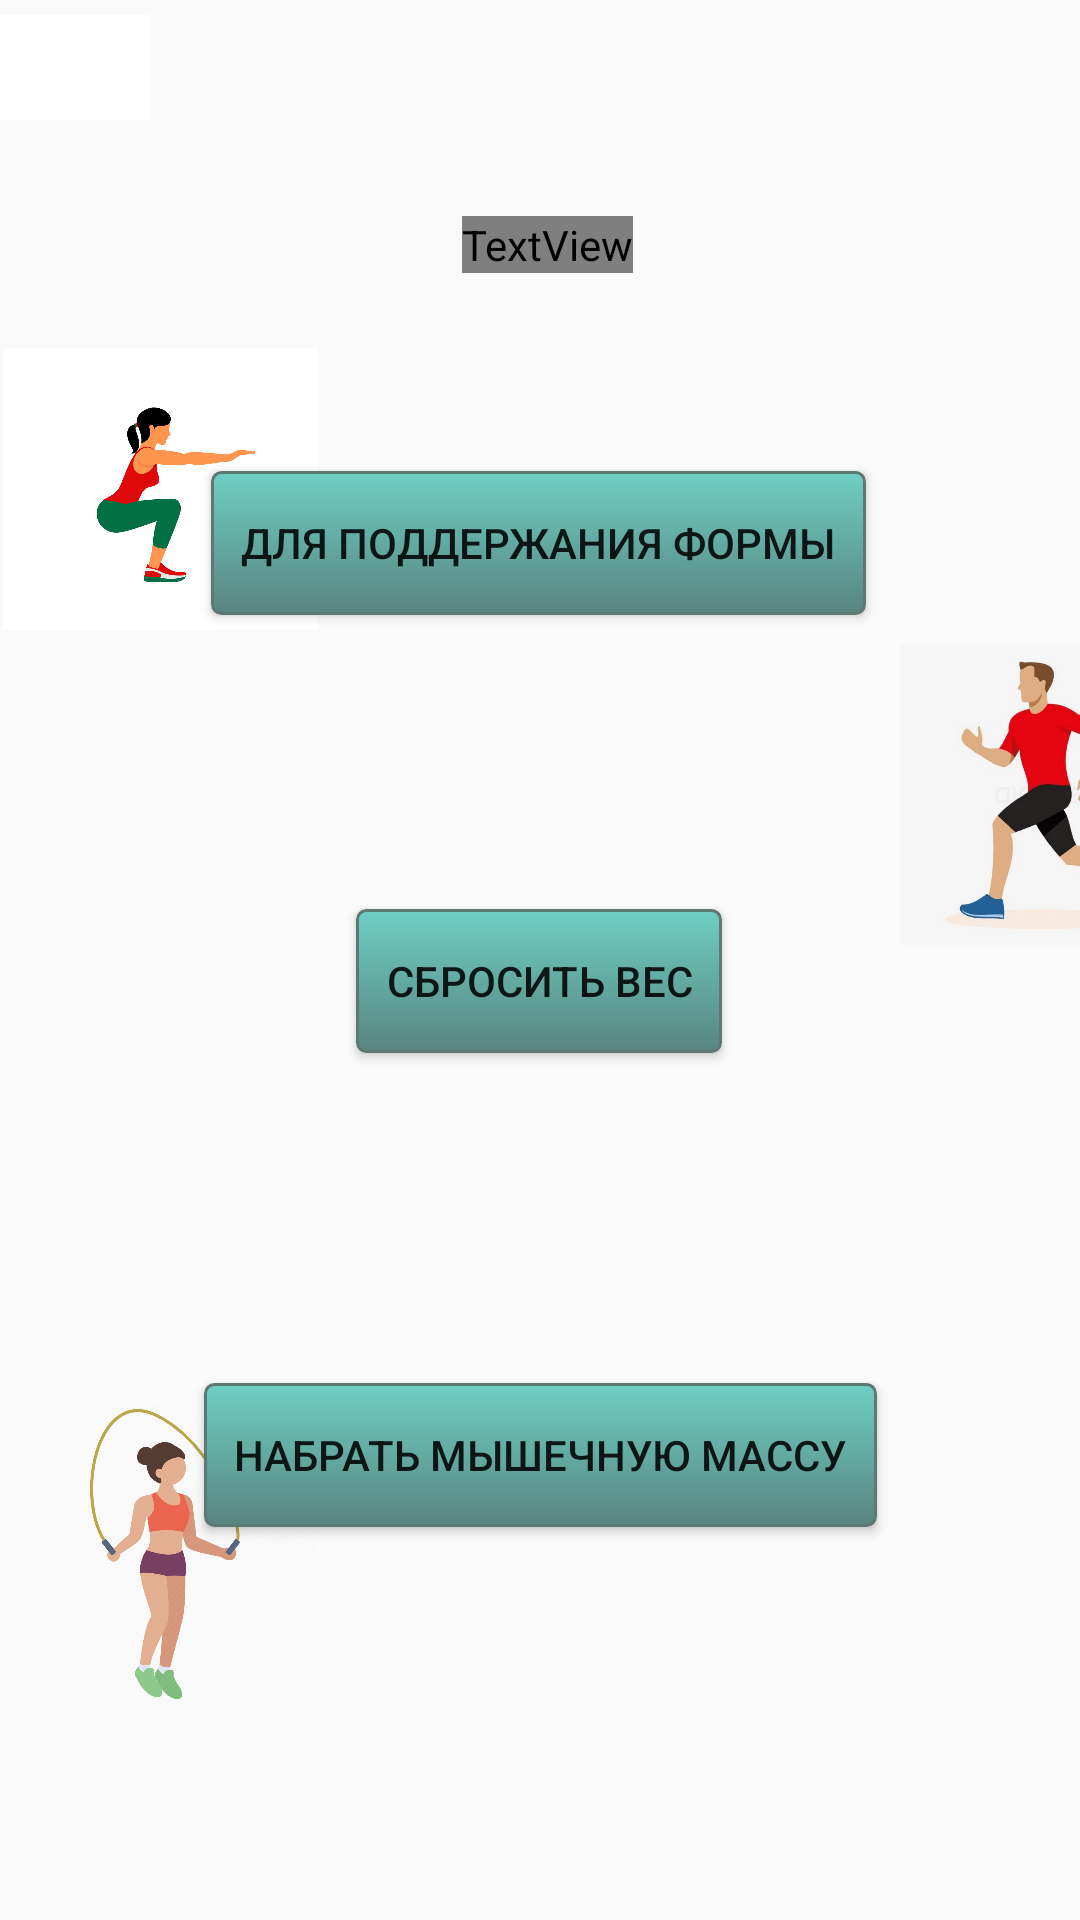

Named icons in this screenshot (1080 x 1920) and their bounding boxes, (x1=x1, y1=y1, x2=x2, y2=y2):
prised: (x1=97, y1=407, x2=318, y2=616)
skakalka: (x1=90, y1=1404, x2=315, y2=1699)
